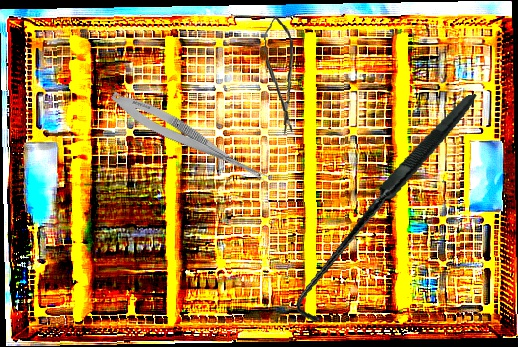Hook Surgical: (265, 93, 512, 325)
Micro Scissor: (105, 85, 277, 190), (262, 15, 300, 135)
